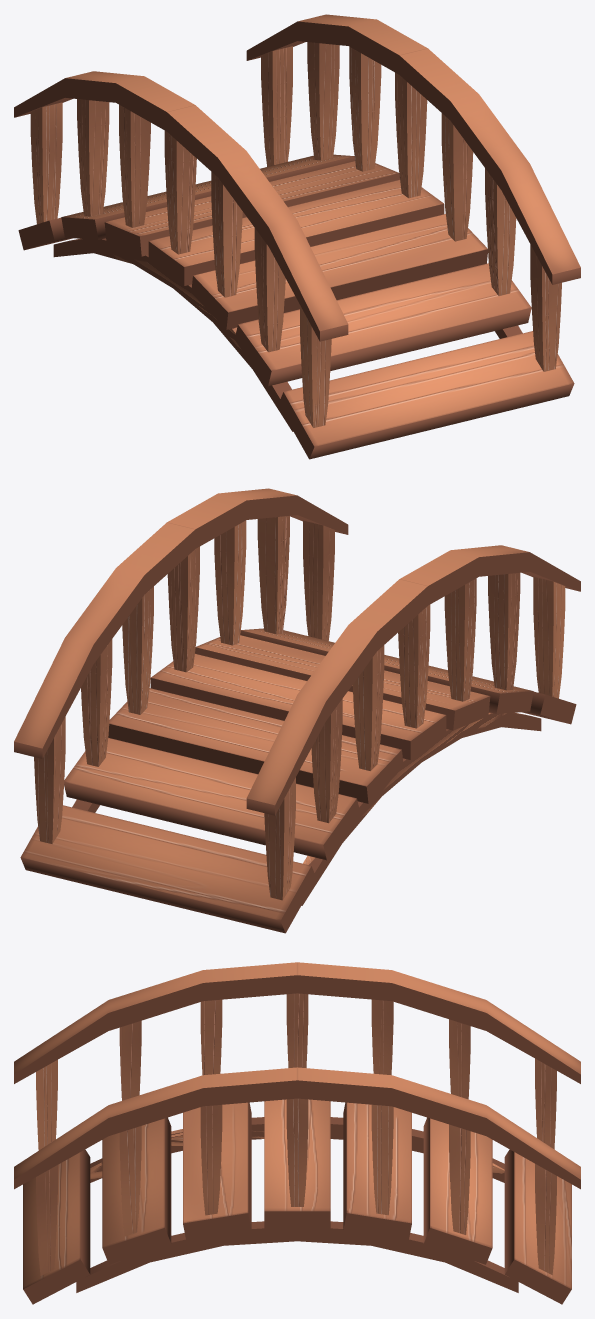
File: bridge1.fbx
3 renders of one model, top to bottom at view 1: azimuth 30°, elevation 25°; view 2: azimuth 150°, elevation 25°; view 3: azimuth 270°, elevation 25°, orthographic. The views are drawn at different scales.
Visible parts, largest first — view 1: Cube; view 2: Cube; view 3: Cube.
Boxes of the visible parts, <box> form: Cube: <box>14,14,580,459</box>; Cube: <box>14,488,580,933</box>; Cube: <box>14,962,580,1304</box>.
Bounding box in the file's own units: 27.9 × 24.75 × 56.51.
1 material, 1 textured.
